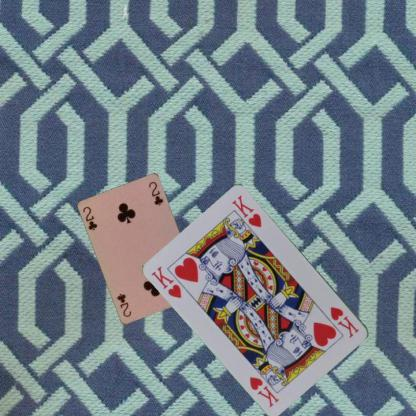2c: (80, 204, 99, 232)
Kh: (149, 263, 183, 300), (327, 304, 360, 339)
